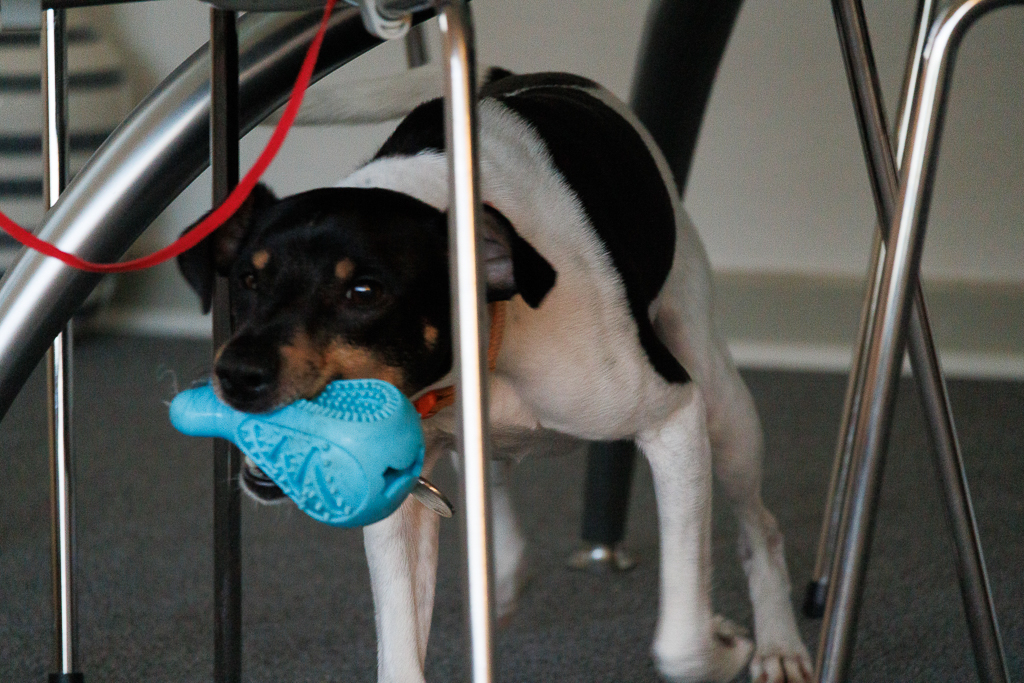Dog: (162, 53, 826, 683)
